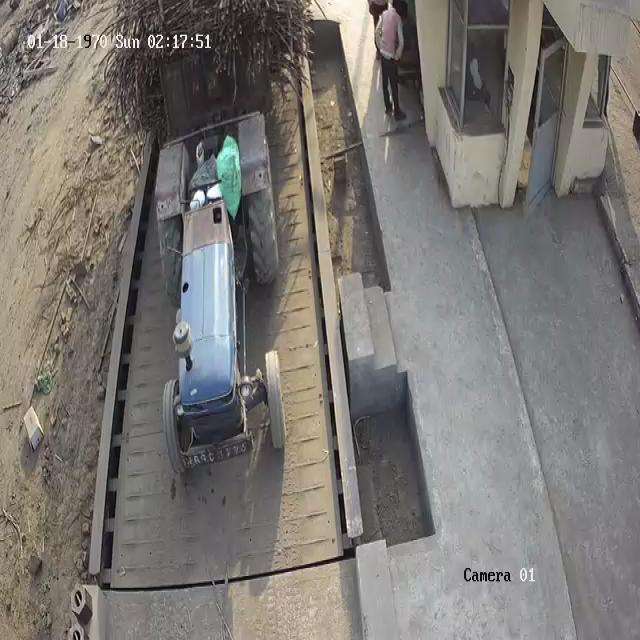Tratores - v5 YOLO V8L 2024-11-13: (159, 131, 286, 475)
